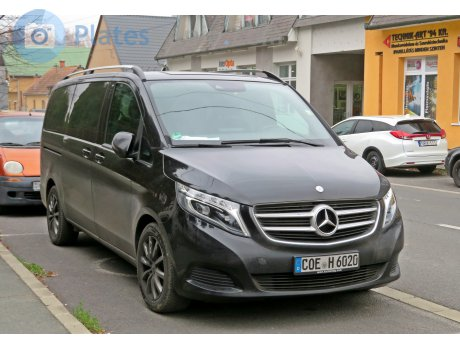License Plates: (302, 253, 360, 263)
